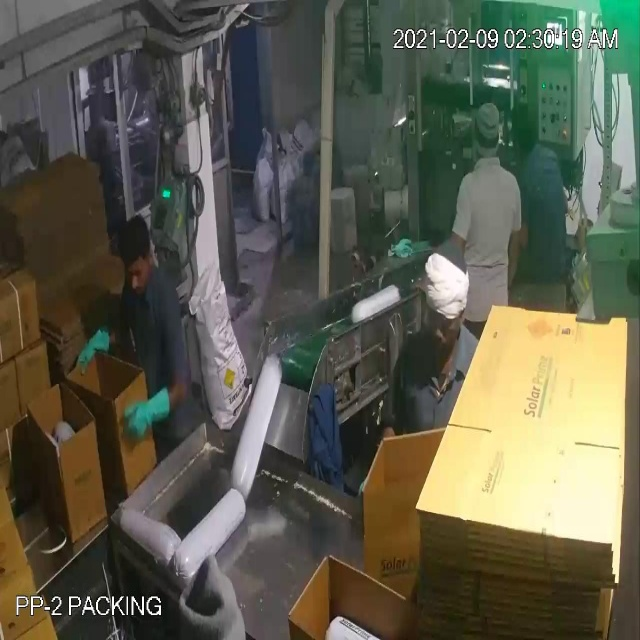Guantes: (124, 378, 181, 445), (74, 317, 113, 378)
